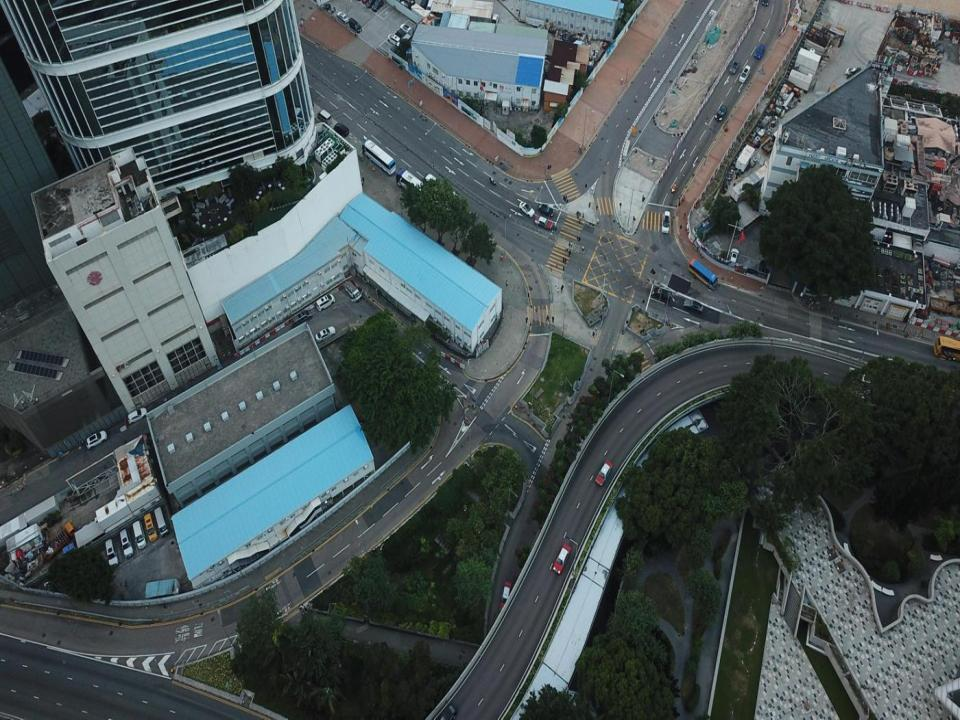bus: (394, 168, 445, 213), (361, 138, 396, 175), (421, 172, 456, 204), (688, 254, 719, 288), (933, 334, 960, 361)
car: (553, 543, 569, 577), (596, 459, 612, 492), (84, 428, 108, 448), (499, 582, 511, 615), (533, 217, 557, 232), (127, 407, 148, 424), (315, 326, 336, 343), (536, 201, 556, 218), (518, 199, 535, 218), (683, 298, 705, 312), (440, 703, 457, 719), (729, 245, 740, 269), (740, 64, 750, 85), (714, 106, 725, 125), (728, 59, 738, 77), (845, 66, 862, 76), (755, 44, 764, 60), (399, 23, 411, 34), (760, 0, 772, 11), (338, 10, 348, 23), (492, 11, 498, 28), (396, 28, 405, 38)
van: (343, 278, 363, 304), (143, 511, 159, 541), (119, 527, 133, 559), (153, 504, 167, 533), (132, 520, 146, 549), (290, 310, 312, 326), (106, 538, 118, 567), (316, 294, 335, 312), (660, 210, 672, 237), (346, 16, 364, 32), (652, 286, 670, 302), (332, 121, 348, 138), (316, 109, 332, 125), (370, 0, 384, 13), (389, 33, 400, 46), (366, 0, 377, 9), (363, 0, 370, 5)
